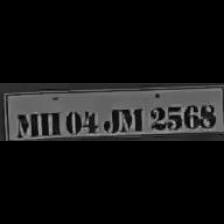0: (64, 109, 82, 133)
2: (144, 102, 166, 132)
4: (75, 107, 98, 133)
5: (164, 102, 182, 130)
6: (180, 99, 198, 131)
9: (196, 101, 214, 127)
J: (102, 102, 122, 132)
M: (15, 110, 38, 136)
N: (119, 102, 141, 132)
